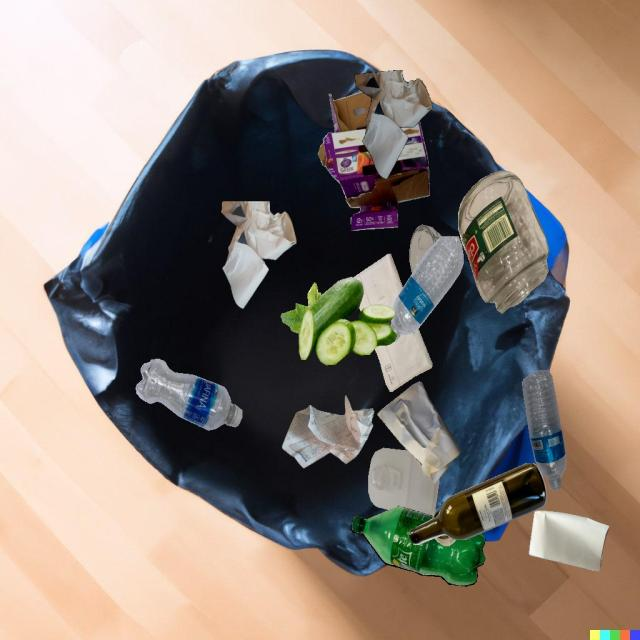biowaste: (281, 277, 397, 365)
cardboard: (318, 92, 430, 230)
glass: (458, 171, 549, 314), (409, 463, 547, 545), (410, 225, 442, 273), (435, 534, 456, 546)
paper: (355, 70, 433, 179), (378, 381, 461, 483), (221, 201, 297, 309), (282, 395, 374, 468), (529, 510, 610, 571), (353, 254, 403, 309), (375, 342, 414, 391), (398, 329, 432, 377)
plastic: (351, 506, 485, 586), (390, 236, 464, 342), (136, 359, 242, 430), (522, 370, 566, 490), (368, 448, 439, 516)
